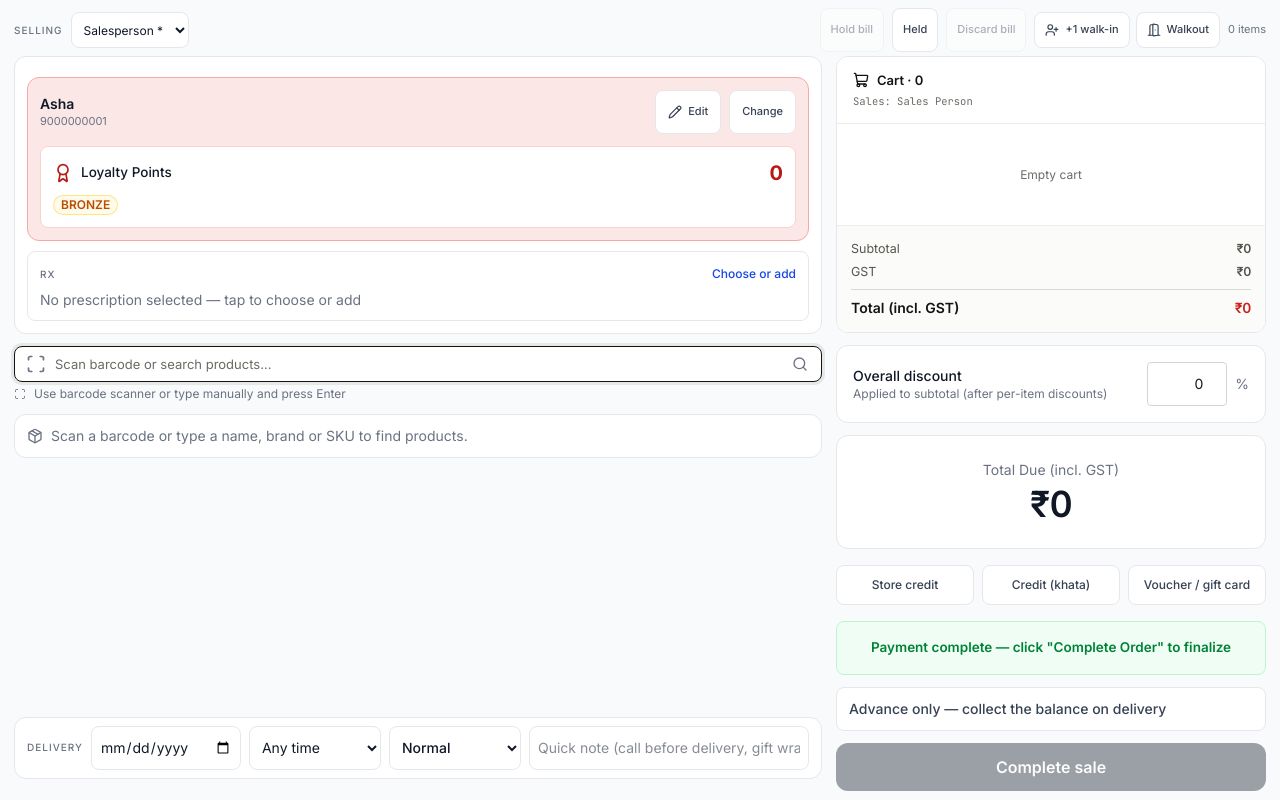
Scenario: the real PrescriptionForm routes a missing axis into the prompt › opens the modal for a toric LEFT eye with a blank axis
Click the button "Choose or add": x=754, y=274 [27, 251, 809, 321]
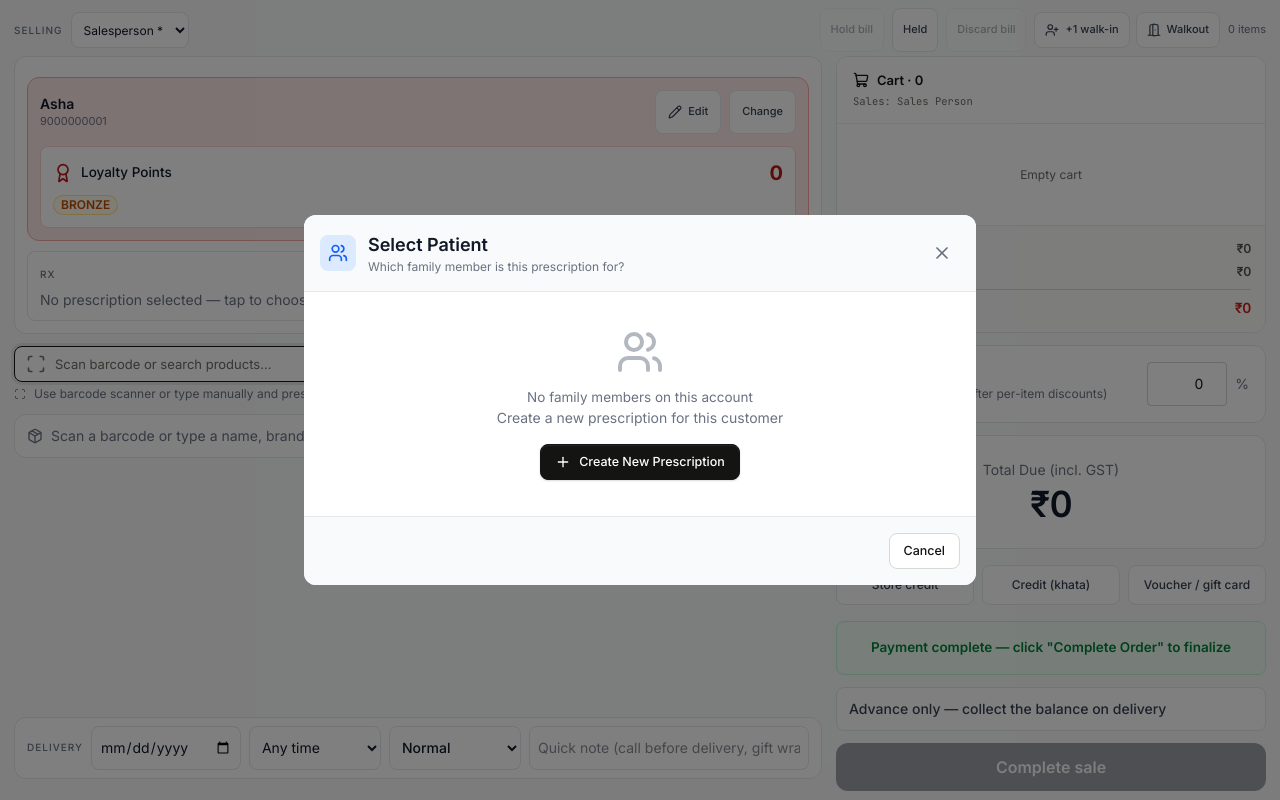
Click the button "Create New Prescription": x=640, y=462 [540, 444, 740, 480]
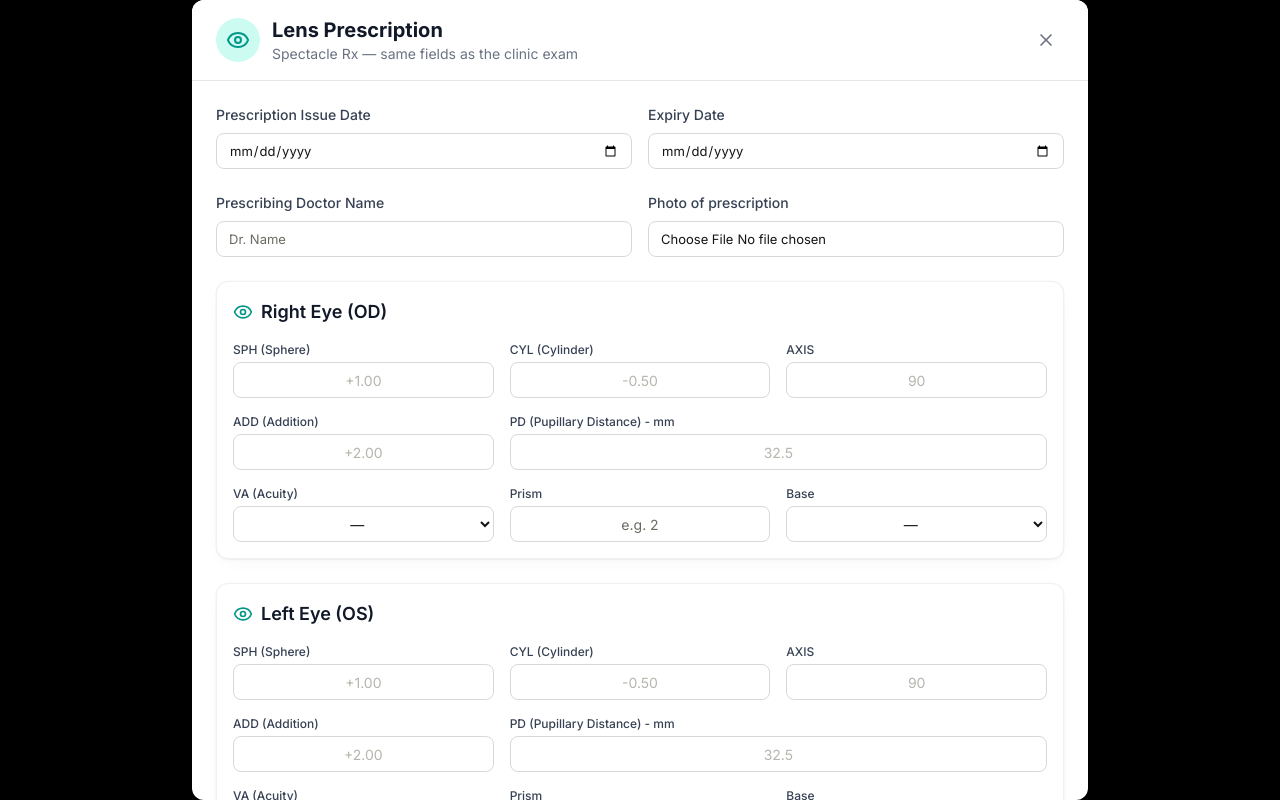
Now the heading "New Prescription" is shown, box [320, 374, 432, 393]
In the field named "Left eye sphere": x=363, y=682 [233, 664, 494, 700], type "-1.00"
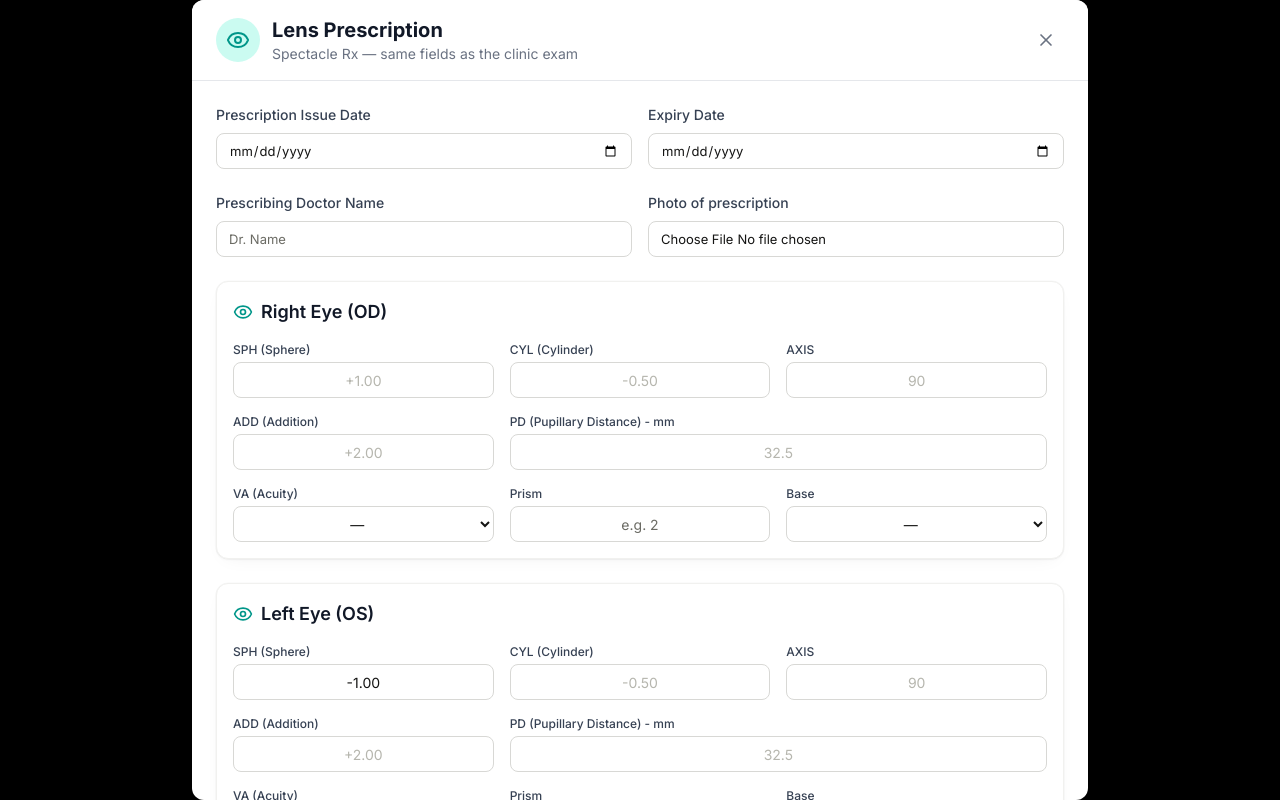
In the field named "Left eye cylinder": x=640, y=682 [510, 664, 770, 700], type "-0.75"
(page scrolled)
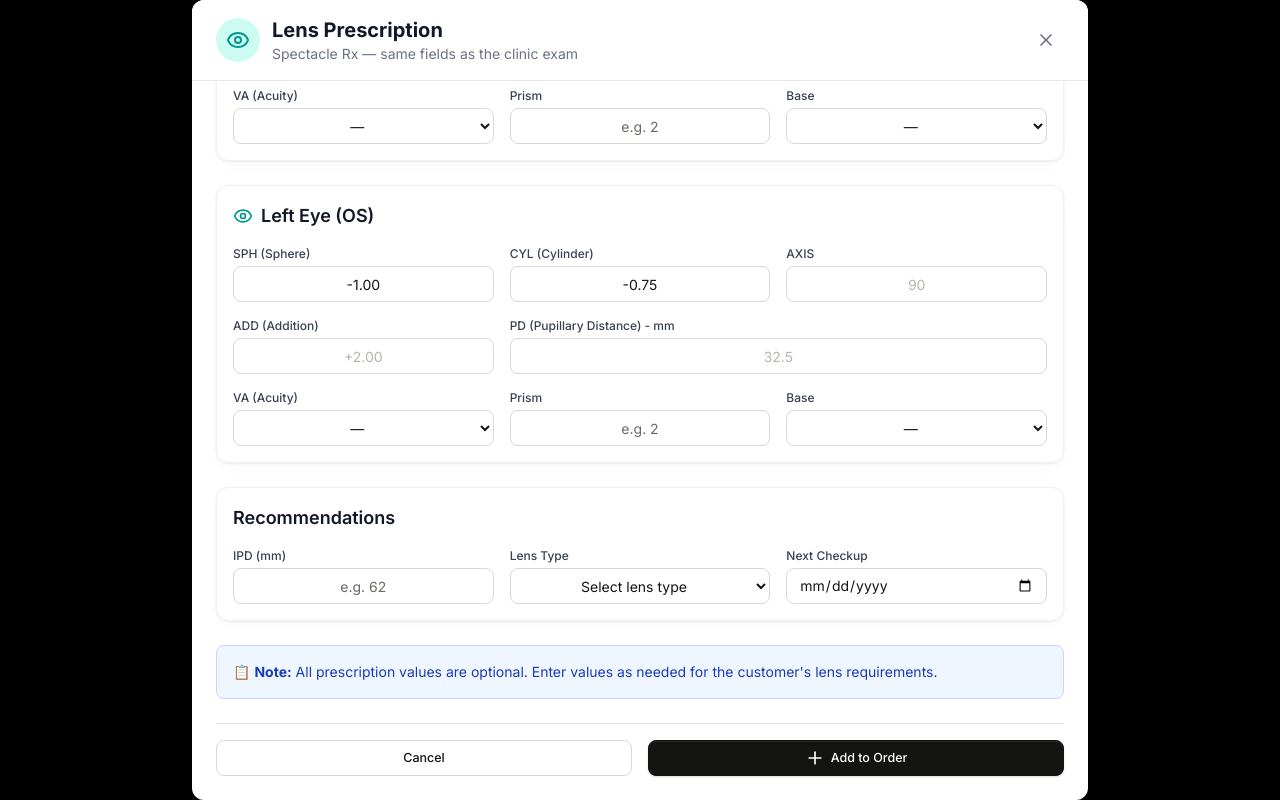
Click the button "Add to Order": x=856, y=758 [648, 740, 1064, 776]
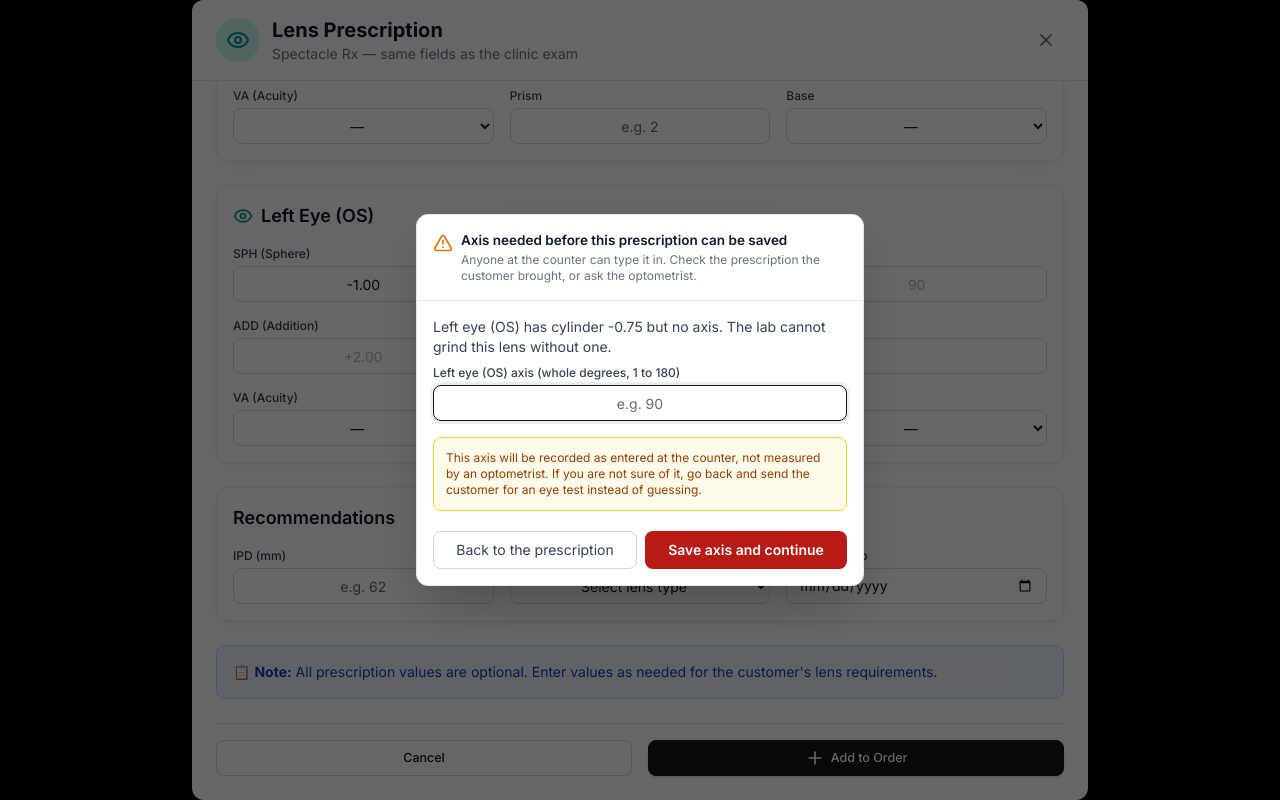
Now the heading "Axis needed before this prescription can be saved" is shown, box [461, 232, 787, 248]
Now the text "Left eye (OS) has cylinder -0.75 but no axis" is shown, box [433, 318, 826, 355]
